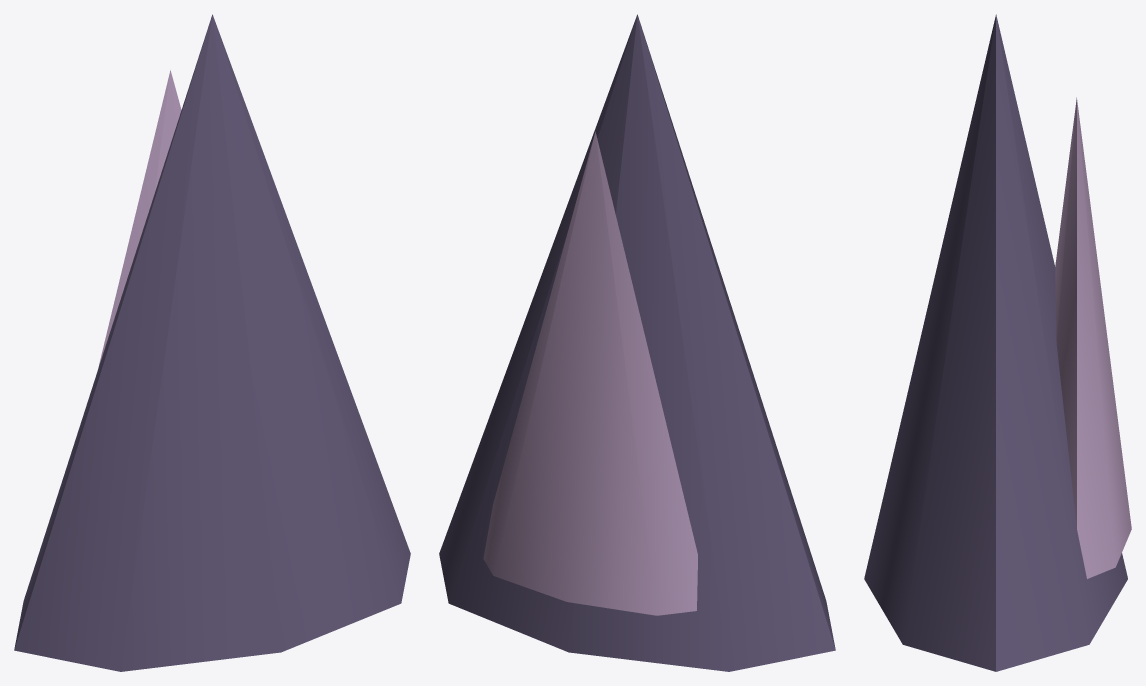
File: cristi_ear.glb
3 renders of one model, left to right at view 1: azimuth 30°, elevation 25°; view 2: azimuth 150°, elevation 25°; view 3: azimuth 270°, elevation 25°, orthographic. The views are drawn at different scales.
Visible parts, largest first — view 1: cristi_ear; view 2: cristi_ear; view 3: cristi_ear.
Boxes of the visible parts, x1,y1,x2,y2 form: cristi_ear: (14, 14, 410, 671); cristi_ear: (439, 14, 835, 671); cristi_ear: (864, 14, 1131, 671).
Bounding box in the file's own units: 0.12 × 0.17 × 0.073.
